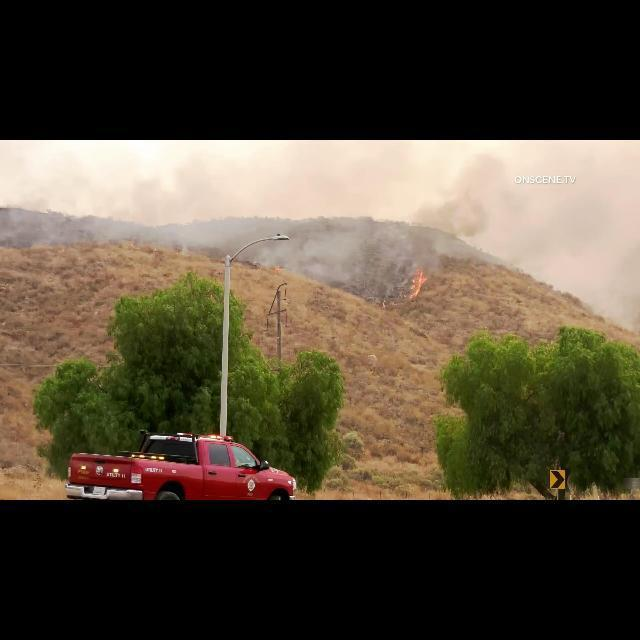Fire: (404, 264, 428, 302)
Smoke: (413, 181, 509, 261)
